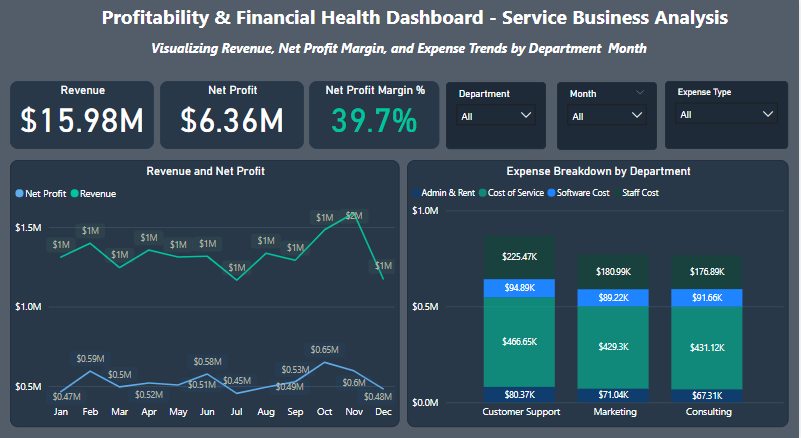

Layout of this report page (visuals, bound fields, positions):
{"tool":"powerbi","page":{"name":"Page 1","canvas":[1000,550],"ordinal":0},"visuals":[{"type":"columnChart","title":"Expense Breakdown by Department","fields":{"Category":["Sheet1.Department"],"Y":["Sum(Sheet1.Amount)"],"Series":["Sheet1.Expense Type"]},"box":[510.2,201,477.1,333.5],"z":0},{"type":"card","title":"Revenue","fields":{"Values":["Sum(Sheet1.Revenue)"]},"box":[13.3,102.7,180,85],"z":1000},{"type":"card","title":"Net Profit","fields":{"Values":["Sum(Sheet1.Net Profit)"]},"box":[201,102.7,180,85],"z":2000},{"type":"card","title":"Net Profit Margin %","fields":{"Values":["Financial Profitability.Avg Net Profit Margin"]},"box":[387.7,102.7,163.5,85],"z":3000},{"type":"lineChart","title":"Revenue and Net Profit ","fields":{"Category":["MonthTable.Month"],"Y":["Sum(Sheet1.Net Profit)","Sum(Sheet1.Revenue)"]},"box":[13.3,201,487,333.5],"z":4000},{"type":"slicer","fields":{"Values":["MonthTable.Month"]},"box":[696.9,103.8,124.8,85],"z":5000},{"type":"slicer","fields":{"Values":["Financial Profitability.Department"]},"box":[1057.6,145.5,195.4,87.6],"z":6000},{"type":"slicer","fields":{"Values":["Financial Profitability.Expense Type"]},"box":[833,103,153.5,85],"z":7000},{"type":"slicer","fields":{"Values":["Financial Profitability.Department"]},"box":[558.8,103.8,124.8,83.9],"z":8000},{"type":"textbox","box":[0,0,999.5,57.4],"z":9000},{"type":"textbox","box":[0,45.3,999.5,57.4],"z":10000}]}

Visuals, with their boxes in screenshot pixels (x1, y1, x2, y2), scaled from the page's 1000x550 canvas onto the 801x438 screenshot:
"Expense Breakdown by Department" columnChart: region(409, 160, 791, 426)
"Revenue" card: region(11, 82, 155, 149)
"Net Profit" card: region(161, 82, 305, 149)
"Net Profit Margin %" card: region(311, 82, 442, 149)
"Revenue and Net Profit " lineChart: region(11, 160, 401, 426)
slicer - MonthTable.Month: region(558, 83, 658, 150)
slicer - Financial Profitability.Expense Type: region(667, 82, 790, 150)
slicer - Financial Profitability.Department: region(448, 83, 548, 149)
textbox: region(0, 0, 800, 46)
textbox: region(0, 36, 800, 82)
